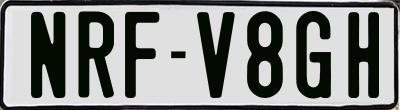8: (247, 11, 283, 100)
F: (123, 12, 159, 102)
G: (295, 8, 334, 97)
H: (347, 10, 382, 102)
N: (28, 11, 65, 103)
R: (75, 9, 112, 102)
V: (194, 10, 235, 98)
